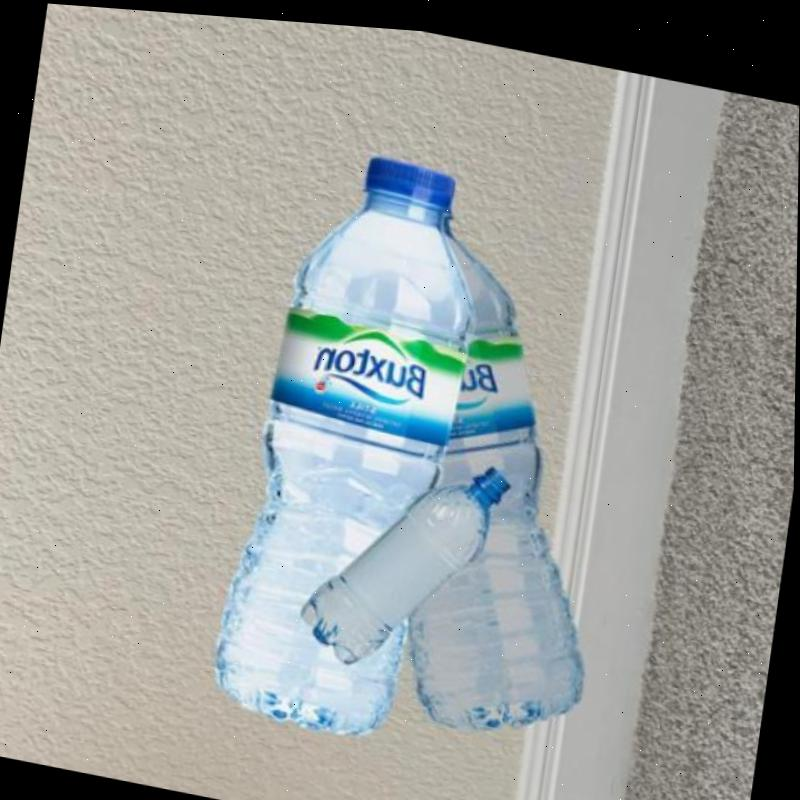botella: (206, 130, 481, 747), (382, 215, 645, 750), (296, 426, 514, 685)
